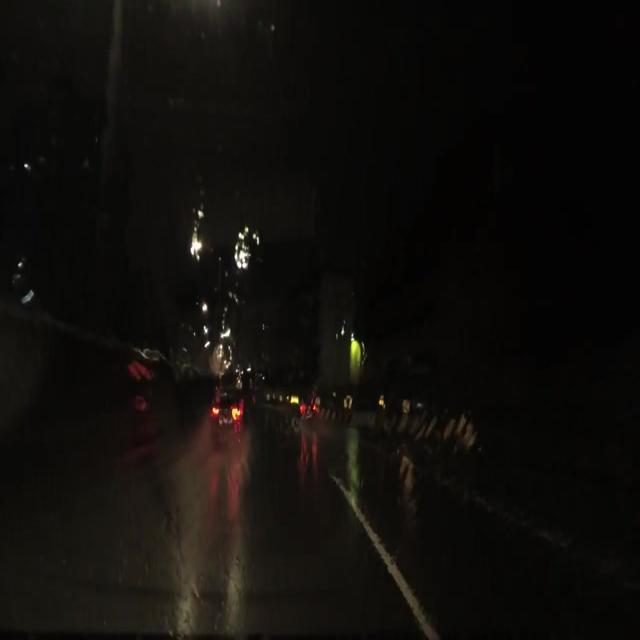Car: (207, 386, 254, 449)
